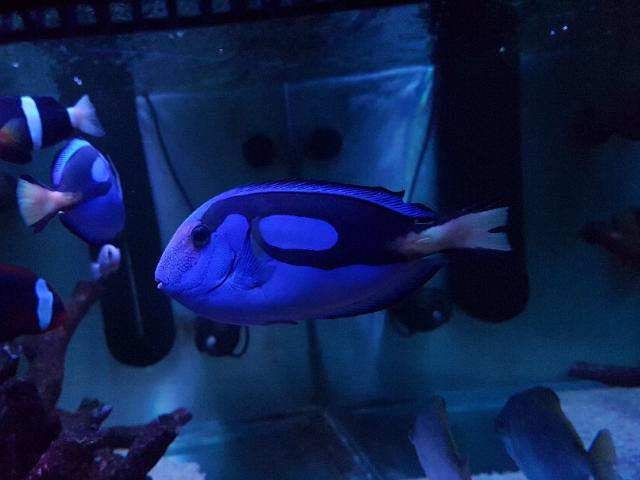Mulut: (137, 256, 186, 314)
Sirip Anal: (314, 246, 454, 330)
Sirip Dada: (211, 208, 289, 298)
Sirip Ekor: (422, 188, 536, 268)
Sirip Perut: (243, 305, 309, 339)
Sirip Punggung: (218, 171, 436, 229)
